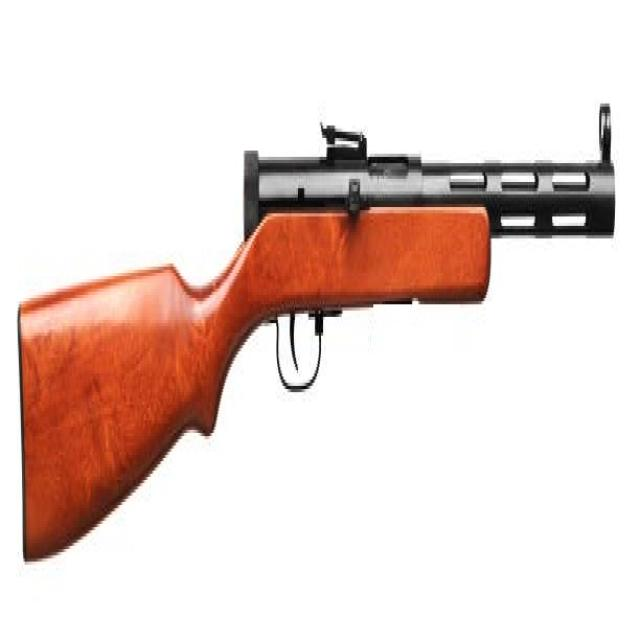rifle: (14, 85, 621, 584)
